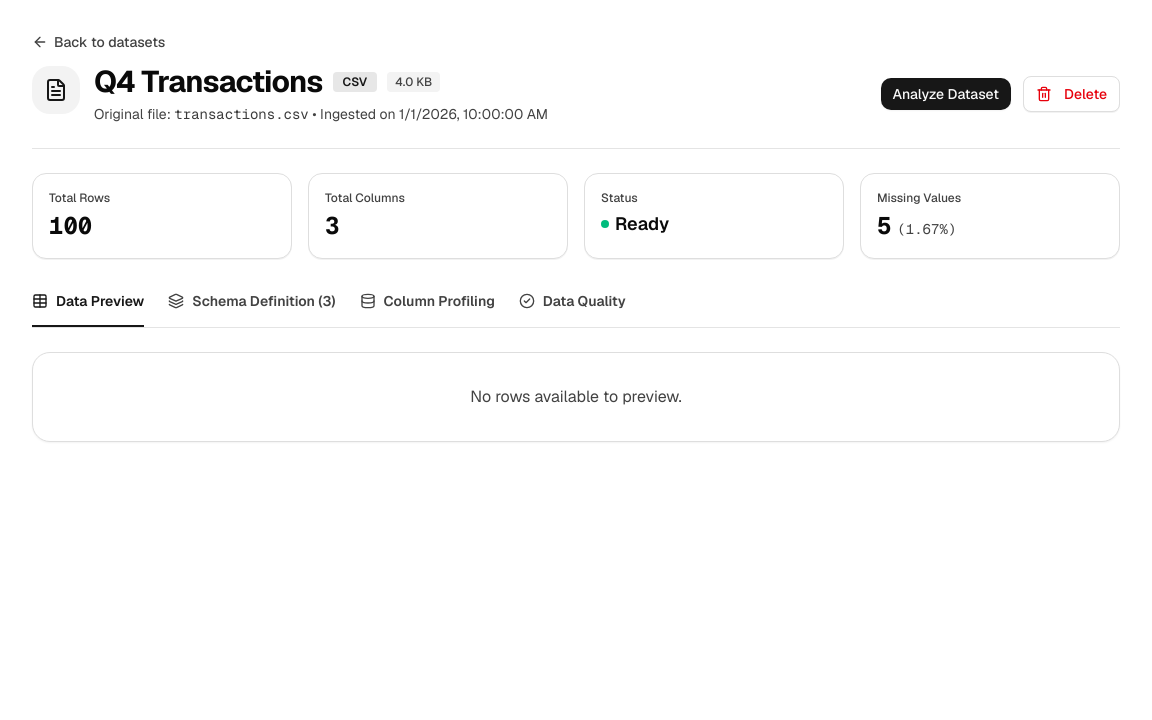
Test case: M2 Dataset Experience › DatasetDetailPage › filters columns by search query in Profiling tab
Expected: the heading "Q4 Transactions" is shown, [94, 64, 322, 100]
Switch to Profile tab
Click the button "Column Profiling" at (427, 309), box [360, 291, 495, 327]
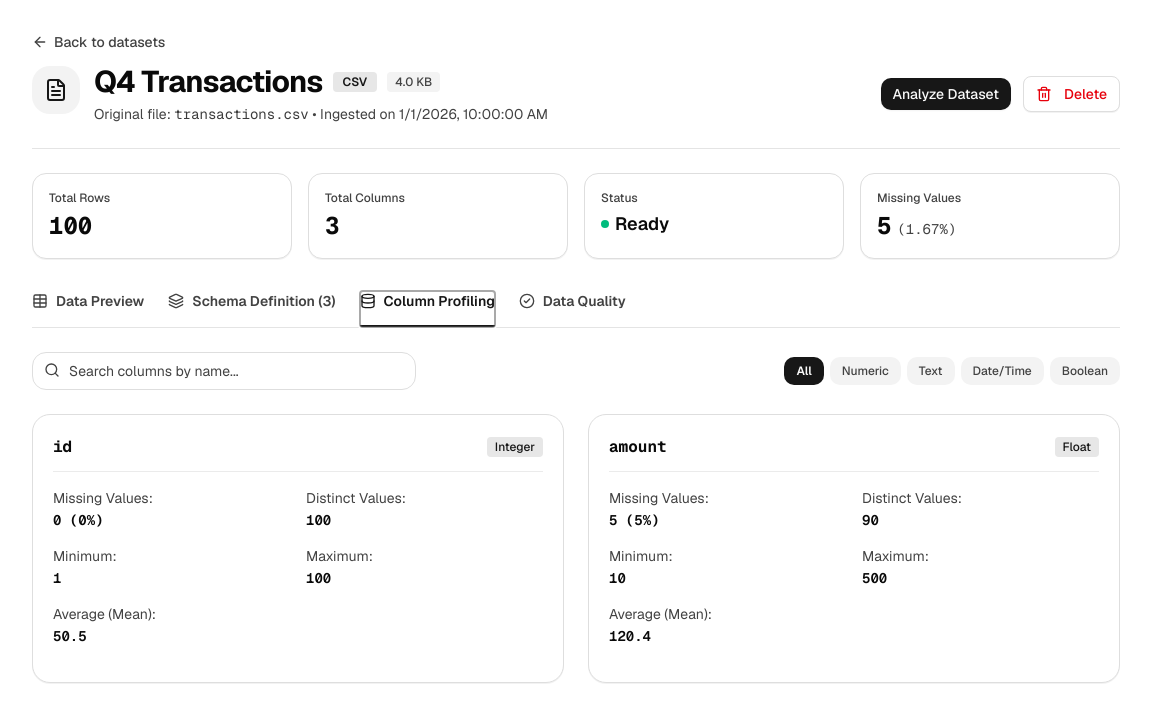
Expected: the heading "id" is shown, [53, 435, 72, 459]
Expected: the heading "amount" is shown, [609, 435, 667, 459]
Type search filter
Type "amou" into the search field labelled "Search columns by name..." at (224, 371), box [32, 352, 416, 390]
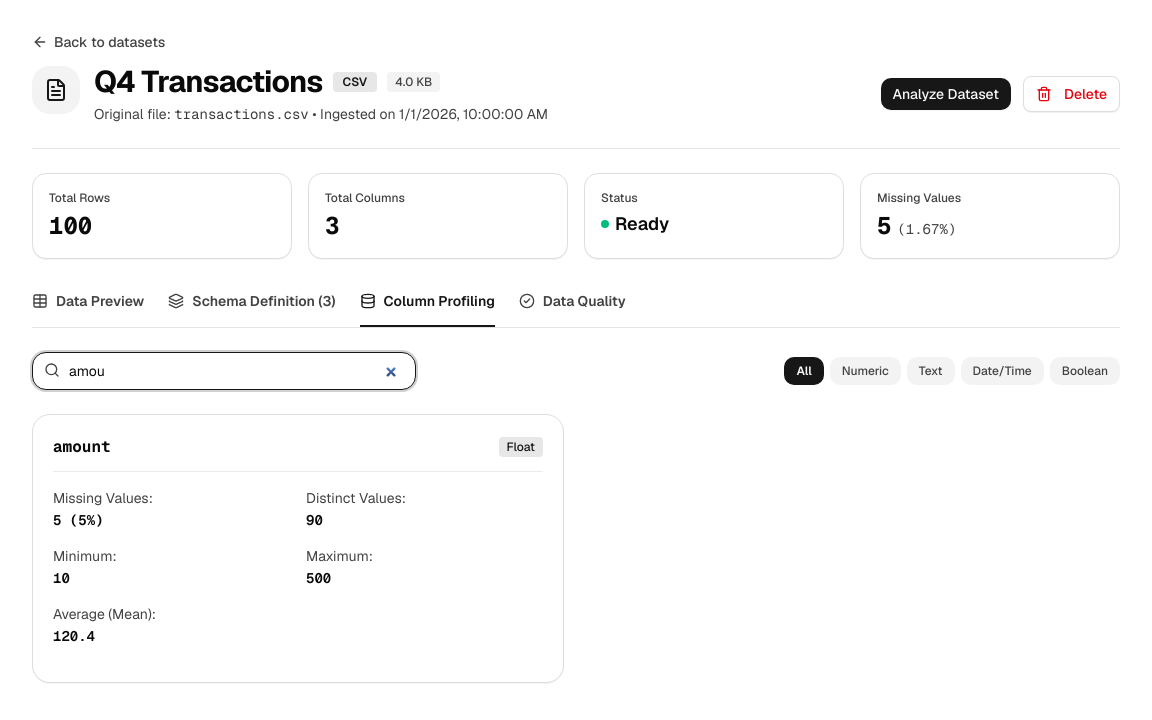
Expected: the heading "amount" is shown, [53, 435, 111, 459]
Expected: the heading "id" is gone
Search with no matches
Replace the text in the search field named "Search columns by name" with "nonexistent" at (224, 371), box [32, 352, 416, 390]
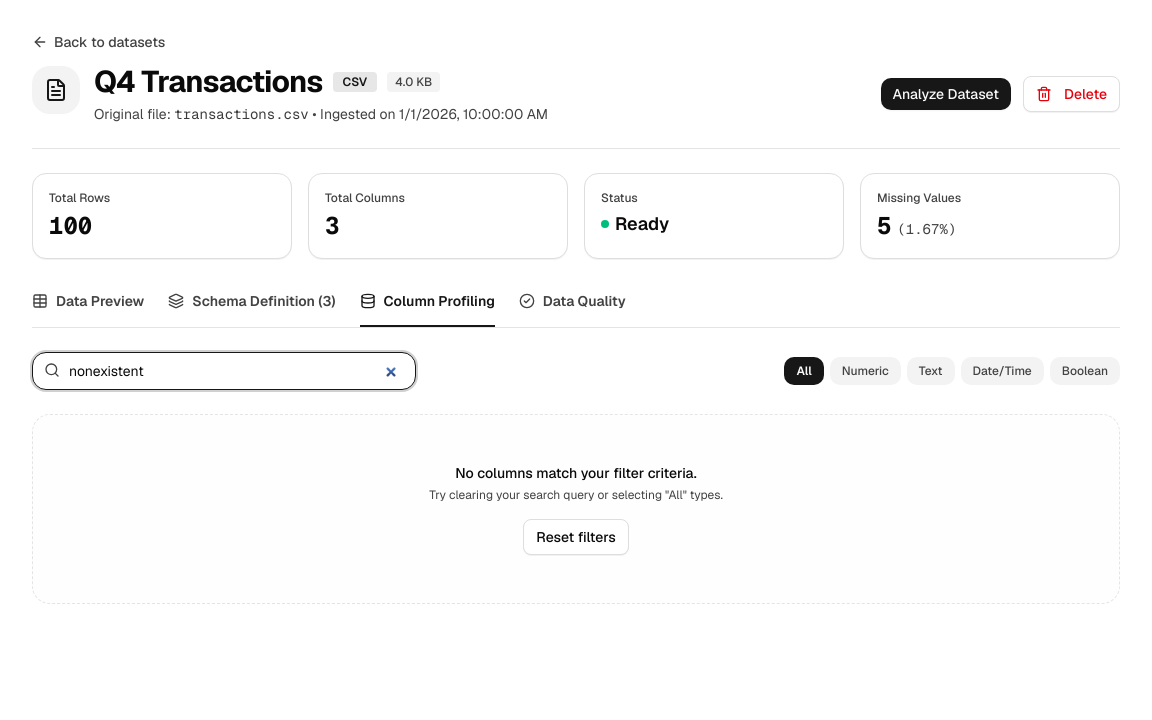
Expected: the text "No columns match your filter criteria." is shown, [455, 464, 697, 482]
